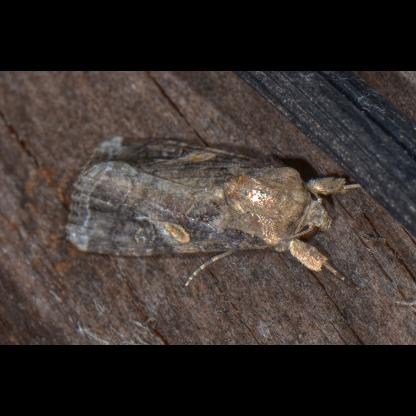Fall Armyworm Moth: (60, 128, 366, 296)
